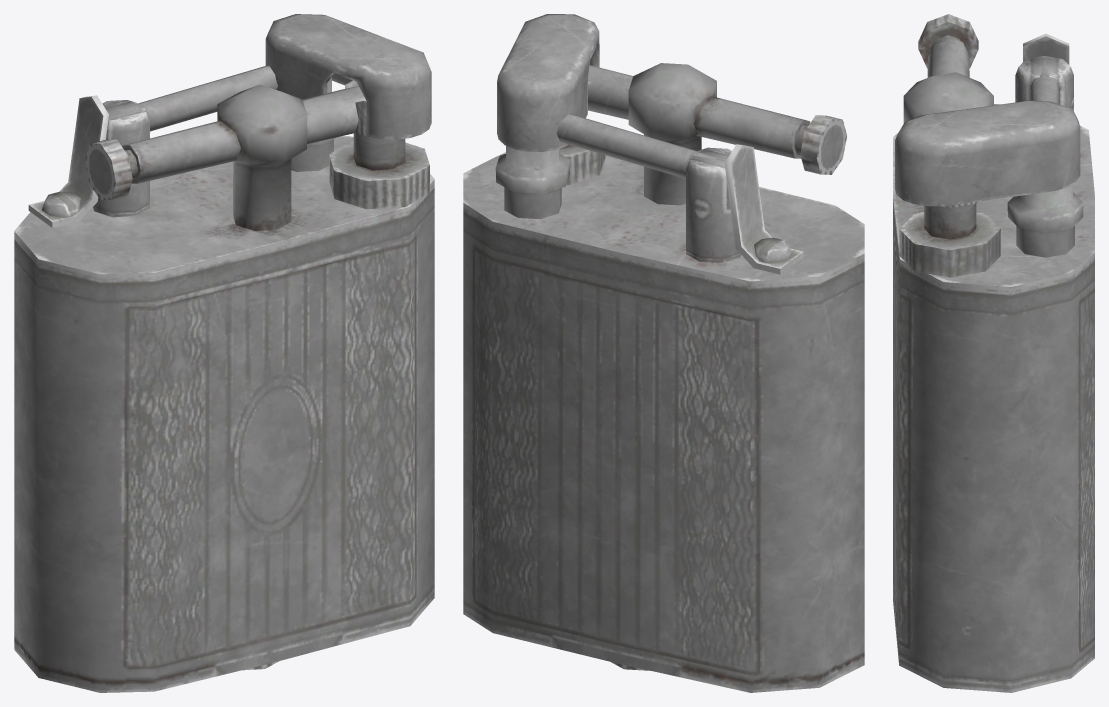
The model's file is Lighter.fbx.
3 views of the same model, side by side, from view 1: azimuth 30°, elevation 25°; view 2: azimuth 150°, elevation 25°; view 3: azimuth 270°, elevation 25° (orthographic). The views are drawn at different scales.
Visible parts, largest first — view 1: Lighter; view 2: Lighter; view 3: Lighter.
Part boxes in pixels (<box>): Lighter: <box>14,14,434,692</box>; Lighter: <box>463,14,864,692</box>; Lighter: <box>893,14,1094,692</box>.
Size of the model in its own units: 10.82 by 15.07 by 5.
Materials: 1 (1 with a texture image).
